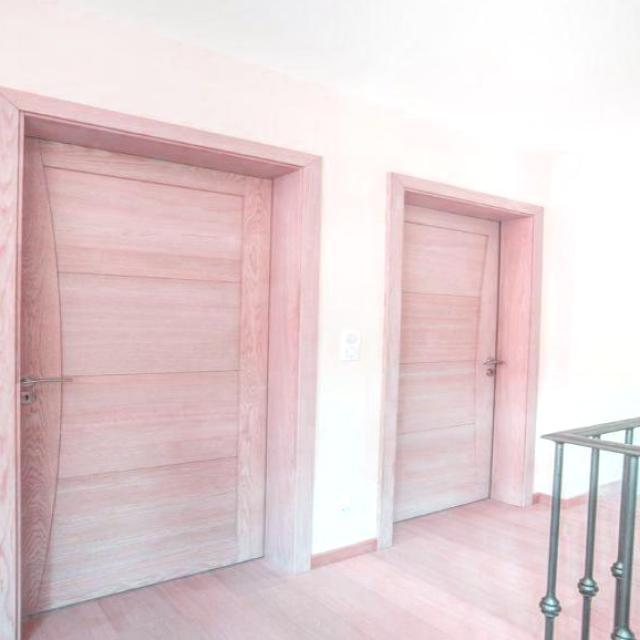door: (0, 71, 341, 639), (368, 163, 566, 560)
